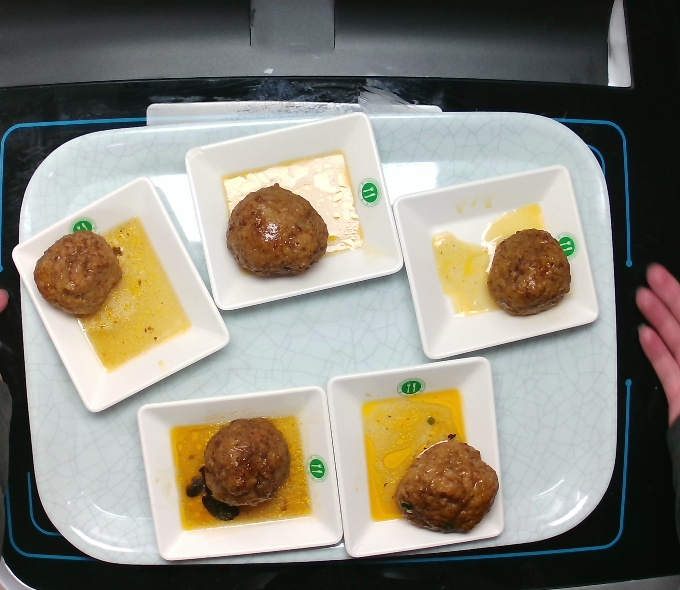wcq-ShiZiTou: (187, 409, 295, 526), (223, 178, 333, 285), (393, 431, 503, 536), (27, 224, 131, 324), (486, 221, 575, 318)
